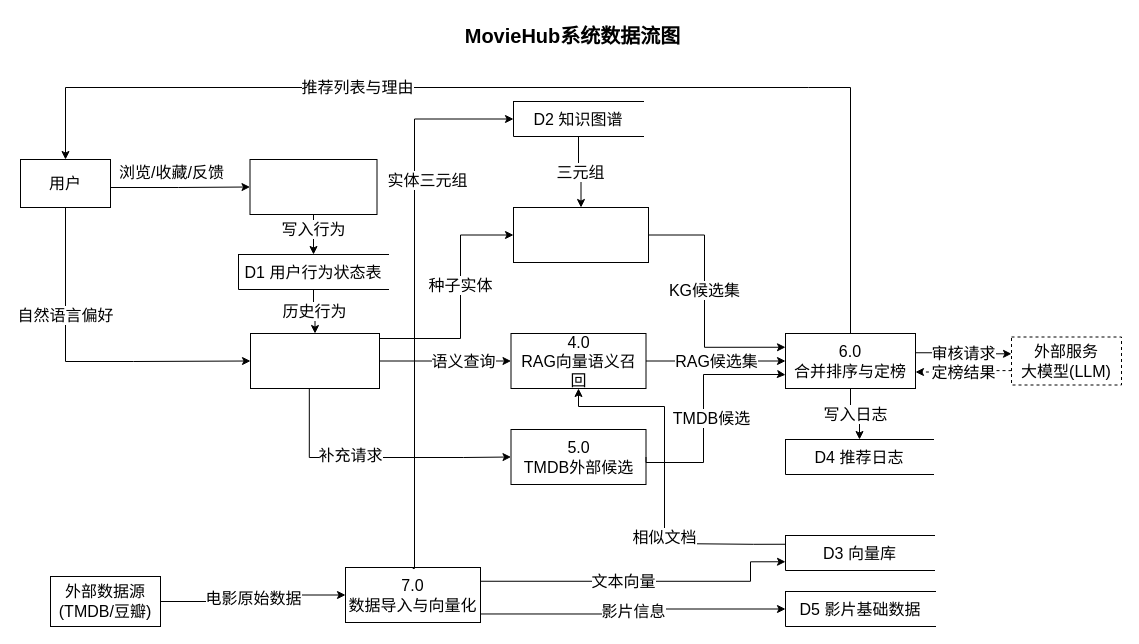
Image size: 1139x644. Some labels were removed from this diagram. The centre of each missing label's shape, as x and y in pixels:
"1.0 行为记录" goes at point (313, 186).
"2.0 偏好分解" goes at point (315, 360).
"3.0 KG链接预测召回" goes at point (580, 234).
